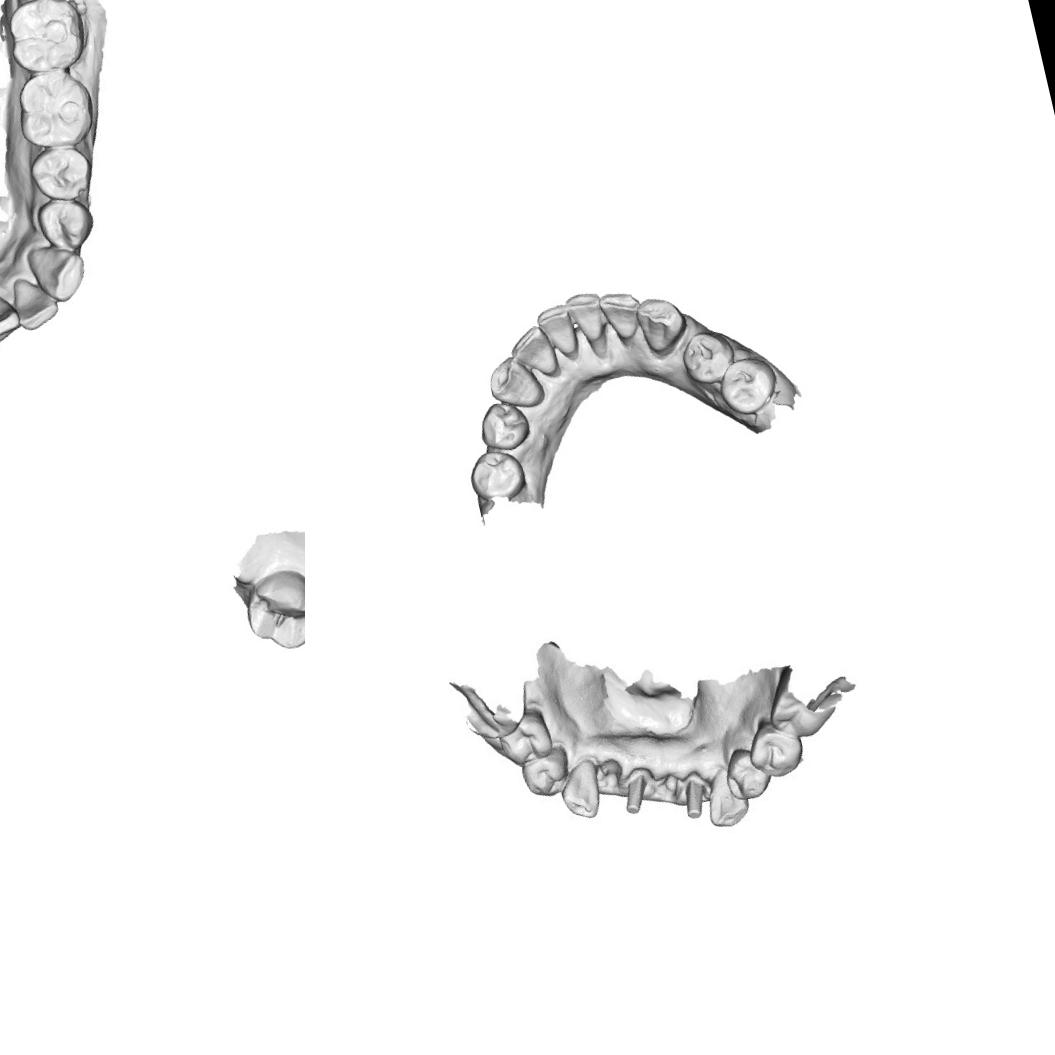abutment: (616, 762, 654, 826), (673, 771, 710, 829)
canine: (26, 236, 92, 308), (483, 350, 549, 416), (632, 290, 694, 360), (700, 768, 752, 834), (556, 764, 604, 823)
incisor: (505, 321, 562, 386), (563, 288, 613, 360), (595, 286, 649, 352), (6, 272, 62, 330), (534, 302, 582, 367), (0, 289, 22, 341)
molar: (14, 64, 102, 150), (0, 0, 90, 81), (238, 563, 305, 658)
premolar: (713, 350, 784, 420), (27, 138, 96, 206), (743, 714, 806, 784), (677, 325, 741, 390), (464, 444, 530, 507), (32, 193, 96, 255), (474, 396, 535, 456), (497, 711, 555, 768), (718, 747, 773, 803), (518, 749, 569, 800)
